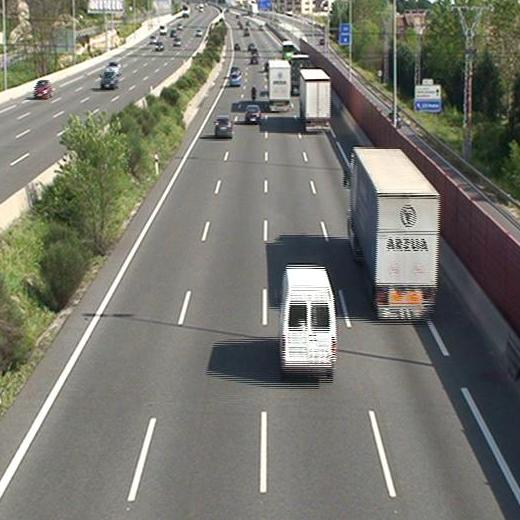car: (214, 115, 232, 138), (246, 106, 261, 124), (229, 73, 242, 86), (249, 55, 258, 63)
motorcycle: (249, 85, 257, 102)
truck: (347, 148, 436, 322), (298, 68, 330, 131), (267, 60, 290, 111)
van: (278, 266, 335, 375)
